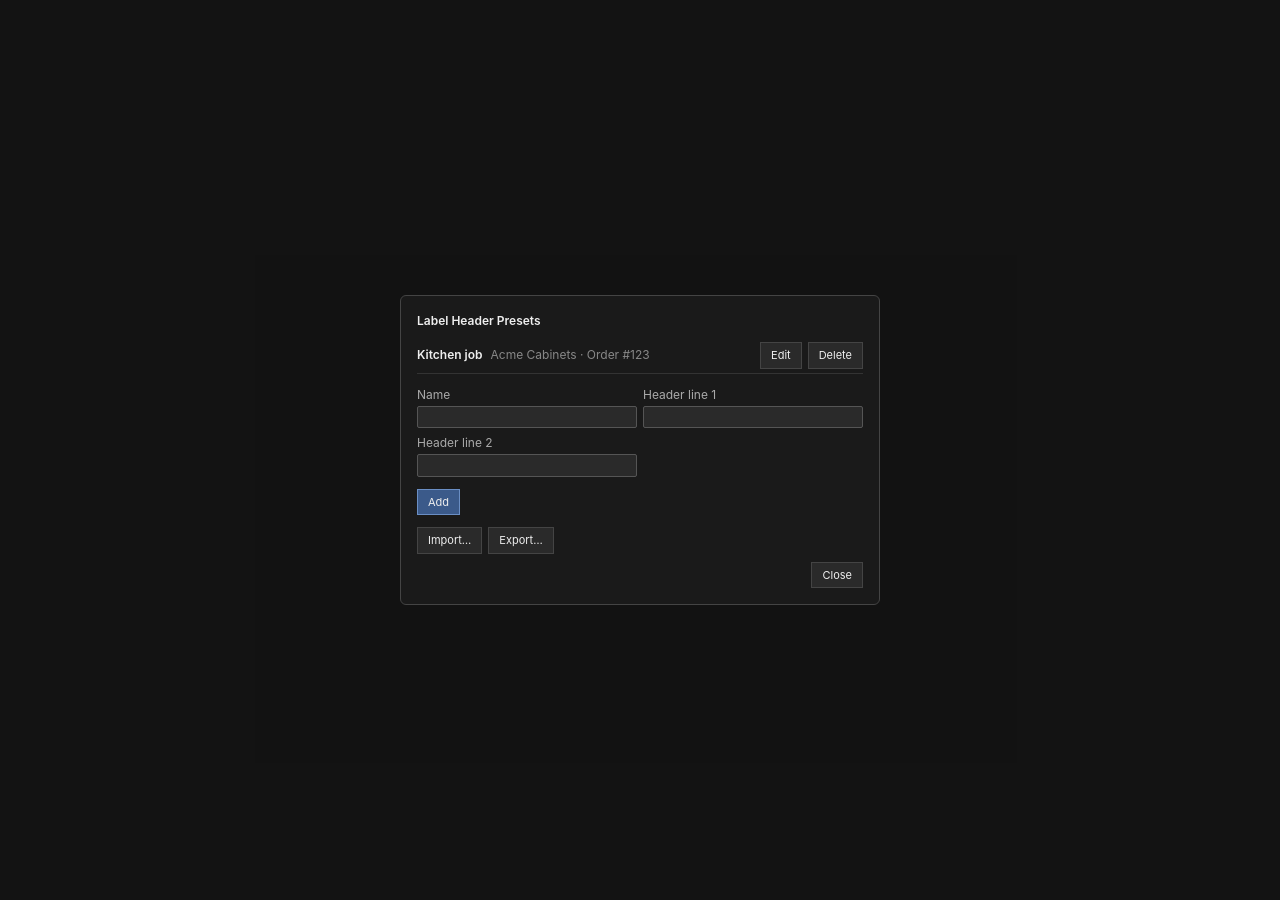
Test: LabelHeaderPresetsDialog › edit populates the form and Save updates the existing preset in place
Click the button "Edit". click: [781, 355]
box: [760,342,802,368]
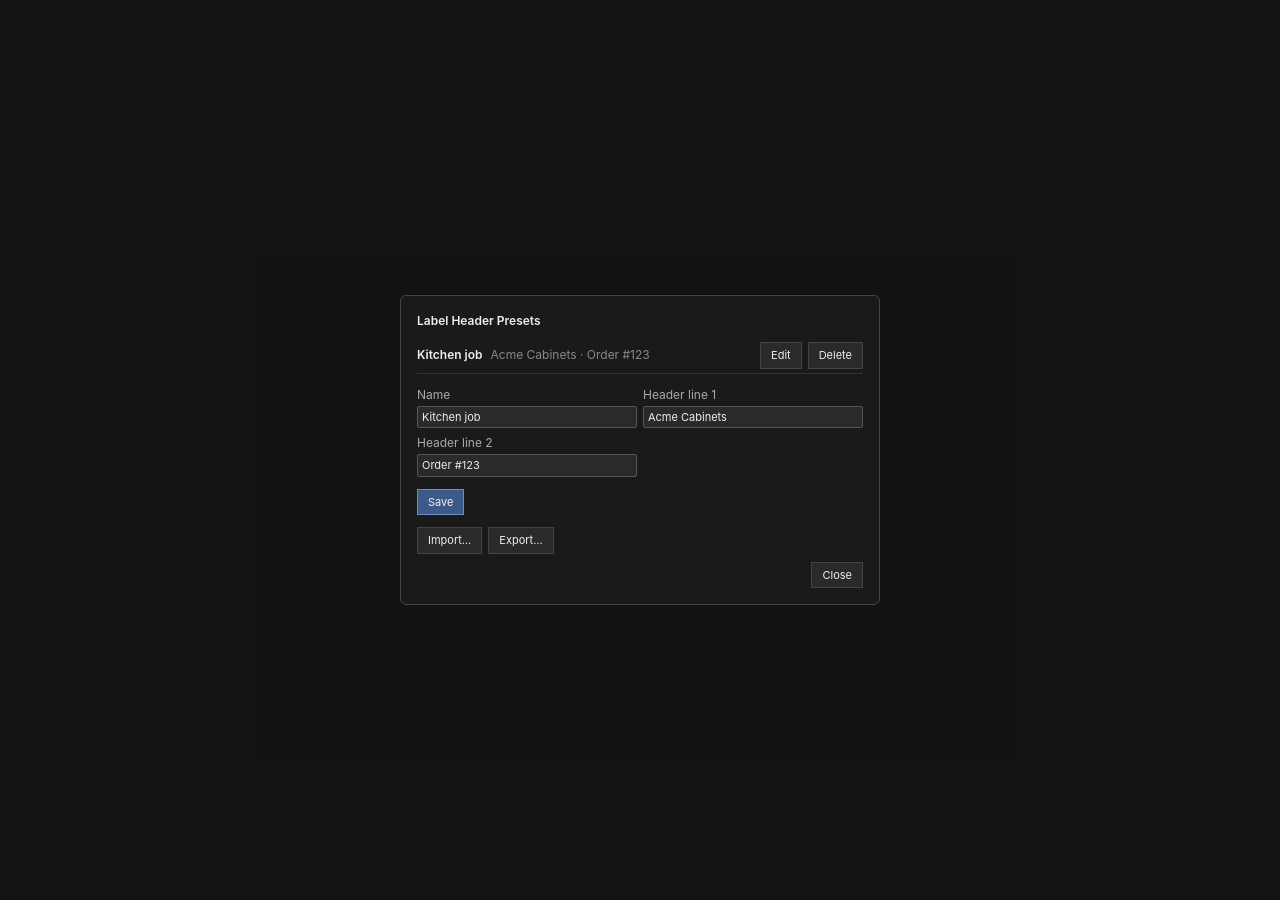
Expected: the field labelled "Name" holds "Kitchen job"
Replace the text in the field labelled "Name" with "Kitchen renamed". click: [527, 417]
box: [417,406,637,428]
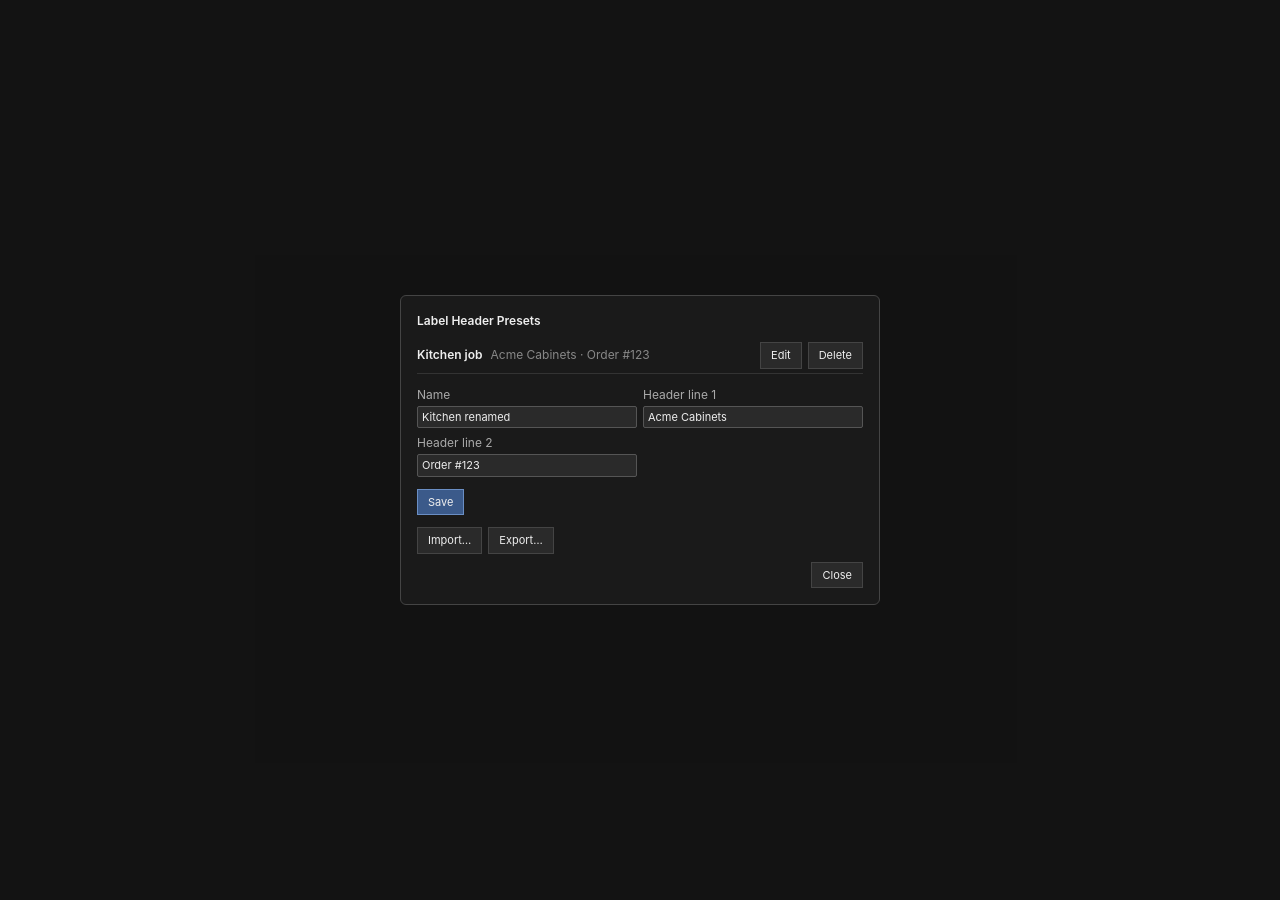
Click the button "Save". click: [441, 502]
box: [417,488,464,515]
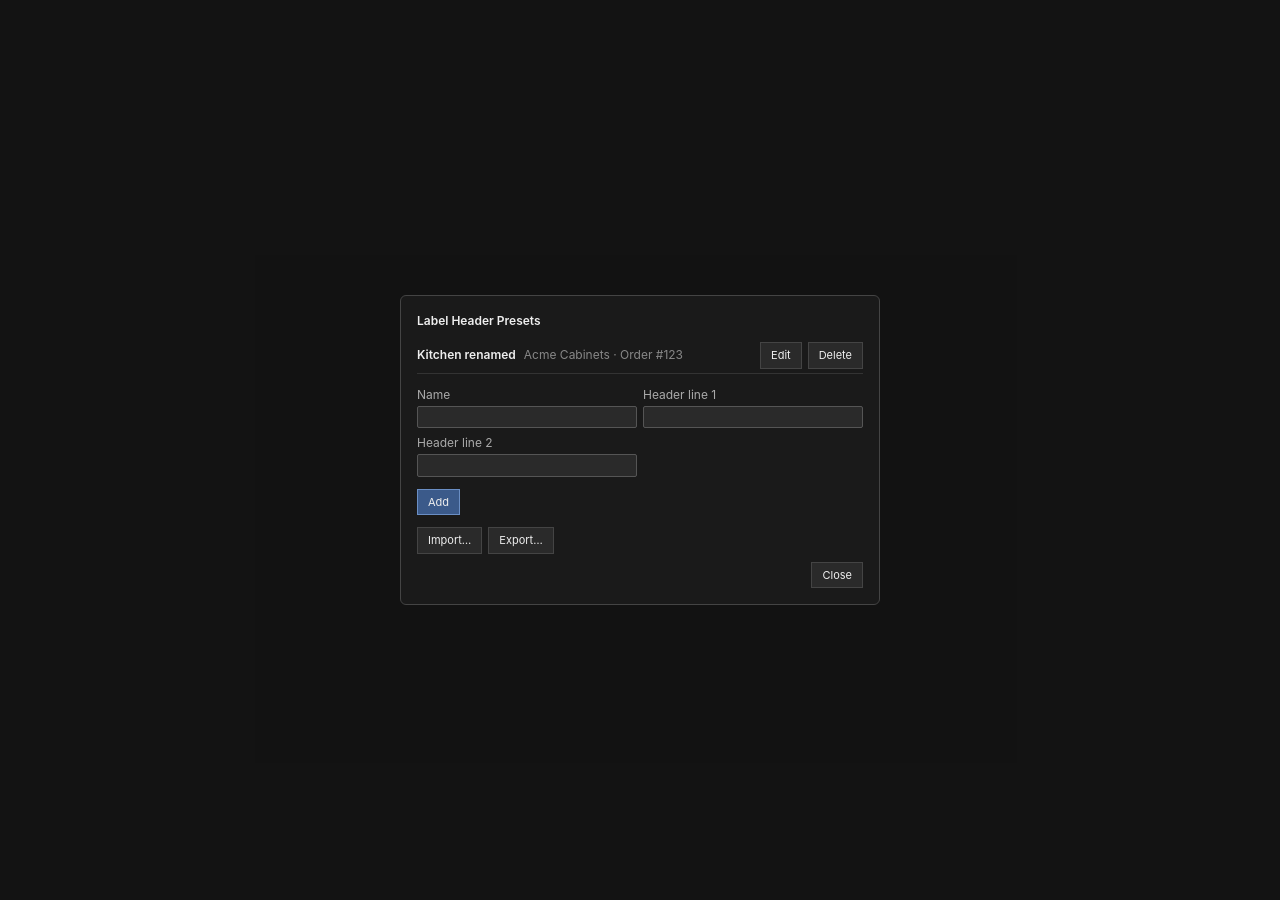
Expected: the text "Kitchen renamed" is shown, [417,347,516,362]
